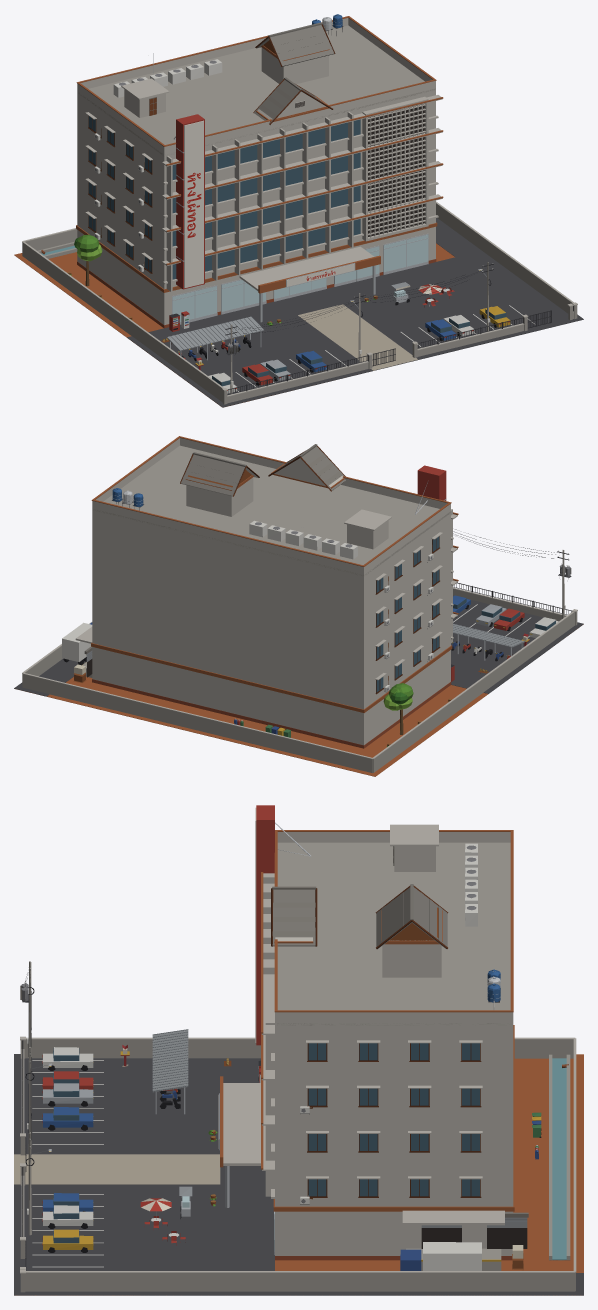
File: store.glb
3 views of the same model, one above another, from view 1: azimuth 30°, elevation 25°; view 2: azimuth 150°, elevation 25°; view 3: azimuth 270°, elevation 25° (orthographic). The views are drawn at different scales.
Parts seen in each view (by area): view 1: body, windows; view 2: body, windows; view 3: body, windows.
Part boxes in pixels (box(x1,y1,x2,y2)): body: box(14, 14, 583, 407); windows: box(89, 101, 509, 390); body: box(14, 436, 583, 776); windows: box(87, 536, 555, 692); body: box(14, 805, 583, 1295); windows: box(42, 807, 527, 1248).
Bounding box in the file's own units: 47.9 × 28.06 × 47.9.
